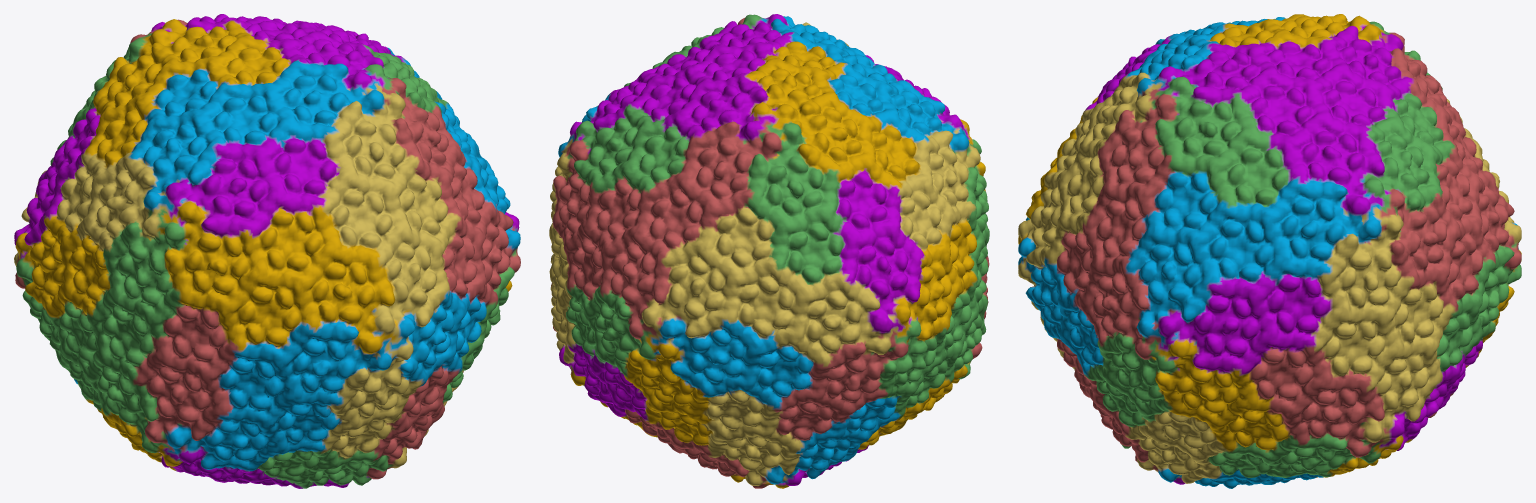
File: virus-bacteriophage-t4-capsid-bychain-nih.glb
3 renders of one model, left to right at view 1: azimuth 30°, elevation 25°; view 2: azimuth 150°, elevation 25°; view 3: azimuth 270°, elevation 25°, orthographic. The views are drawn at different scales.
Visible parts, largest first — view 1: Surface #1; view 2: Surface #1; view 3: Surface #1.
Boxes of the visible parts, bbox=[...] form: Surface #1: bbox=[14, 14, 520, 488]; Surface #1: bbox=[549, 14, 989, 488]; Surface #1: bbox=[1018, 14, 1521, 488].
Size of the model in its own units: 874 by 862 by 928.
